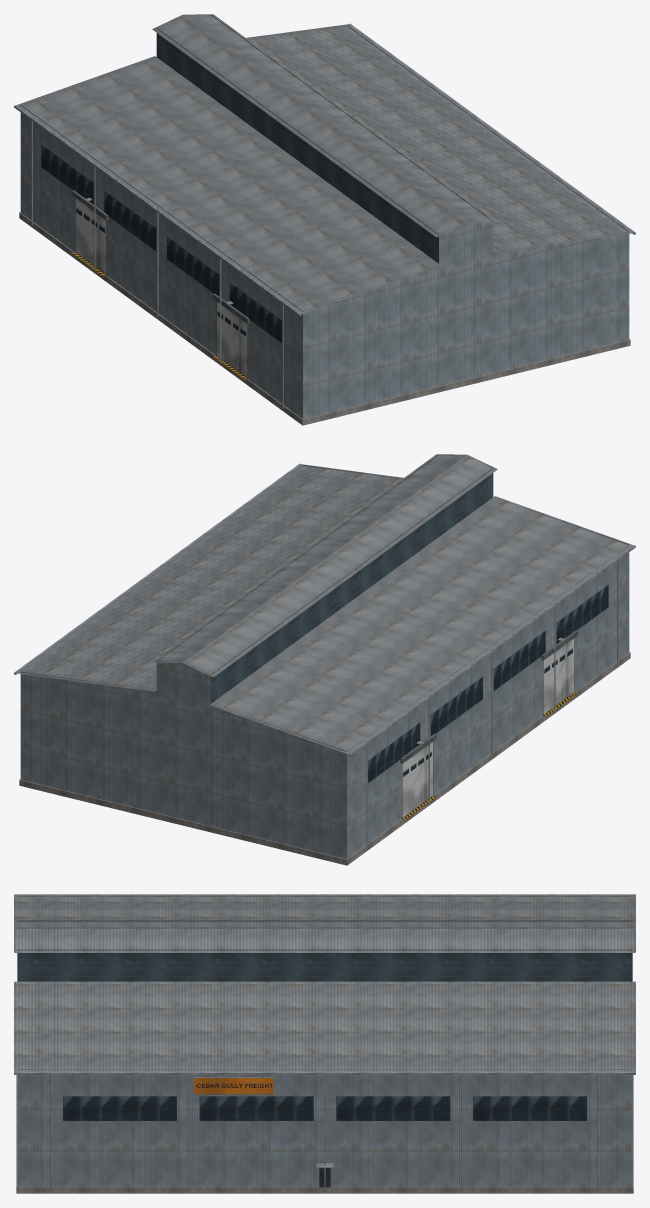
The model's file is wh_lantern.glb.
3 renders of one model, top to bottom at view 1: azimuth 30°, elevation 25°; view 2: azimuth 150°, elevation 25°; view 3: azimuth 270°, elevation 25°, orthographic. The views are drawn at different scales.
Parts seen in each view (by area): view 1: body|props; view 2: body|props; view 3: body|props.
Boxes of the visible parts, left/top/right/bottom form: body|props: left=14, top=14, right=635, bottom=425; body|props: left=14, top=454, right=635, bottom=865; body|props: left=14, top=894, right=635, bottom=1193.
Bounding box in the file's own units: 37.4 × 17.2 × 54.6.
1 material, 1 textured.
